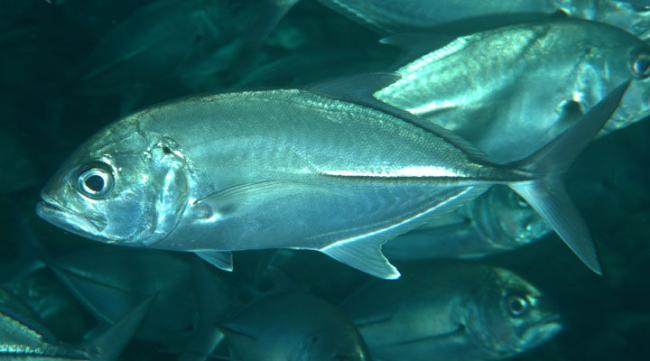fish: (34, 72, 630, 281)
